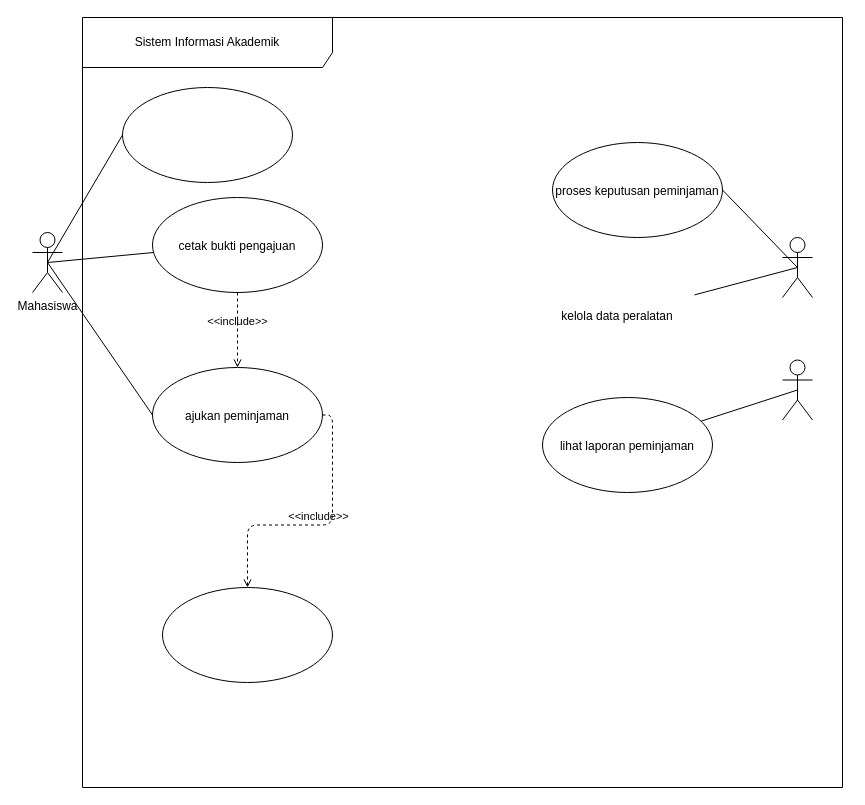
Some shapes in this 865 by 805 pixel diagram are drawn without their labels. The centre of each missing label's shape, as x and y in pixels:
Dosen Wali: point (797, 389)
lihat ketersediaan peralatan: point (207, 134)
periksa ketersediaan: point (247, 634)
petugas laboratium: point (797, 267)
